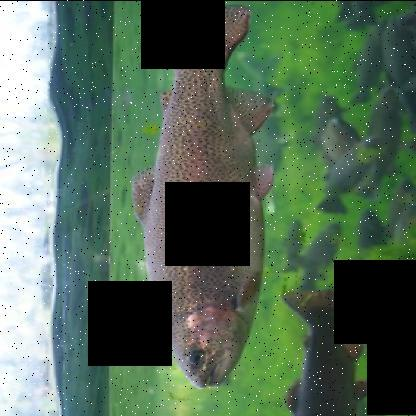fish: (136, 4, 276, 387)
